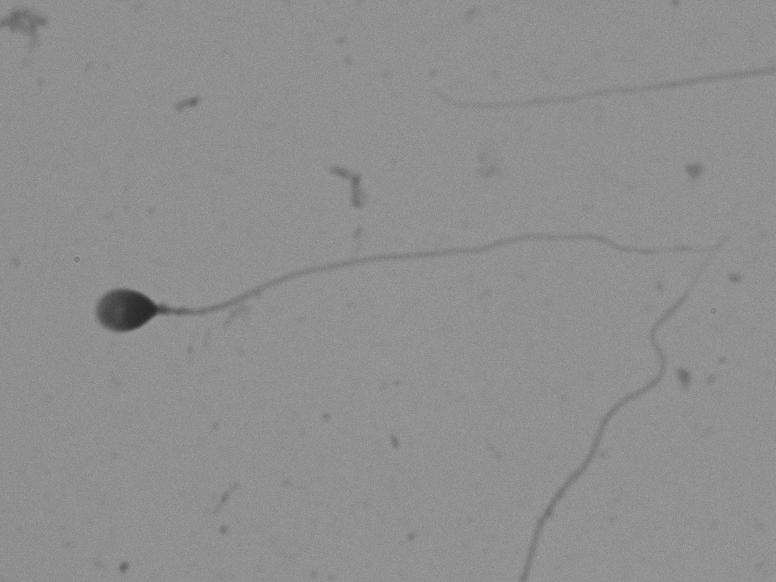Normal: (71, 177, 671, 416)
